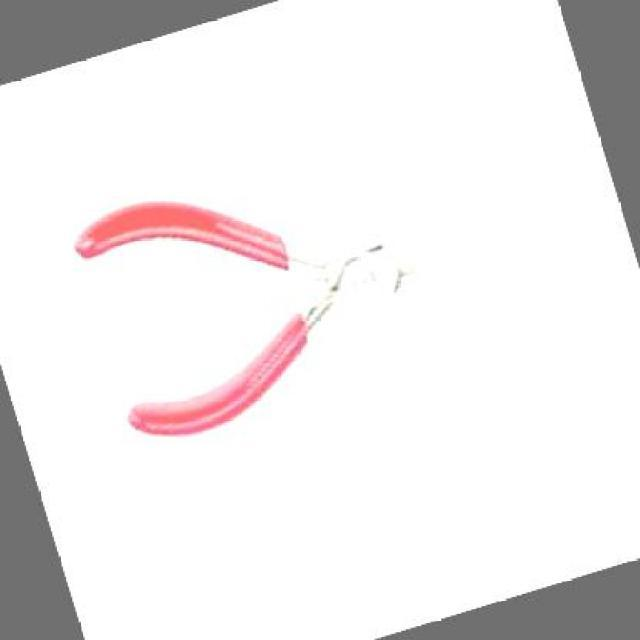pliers: (32, 62, 571, 478)
